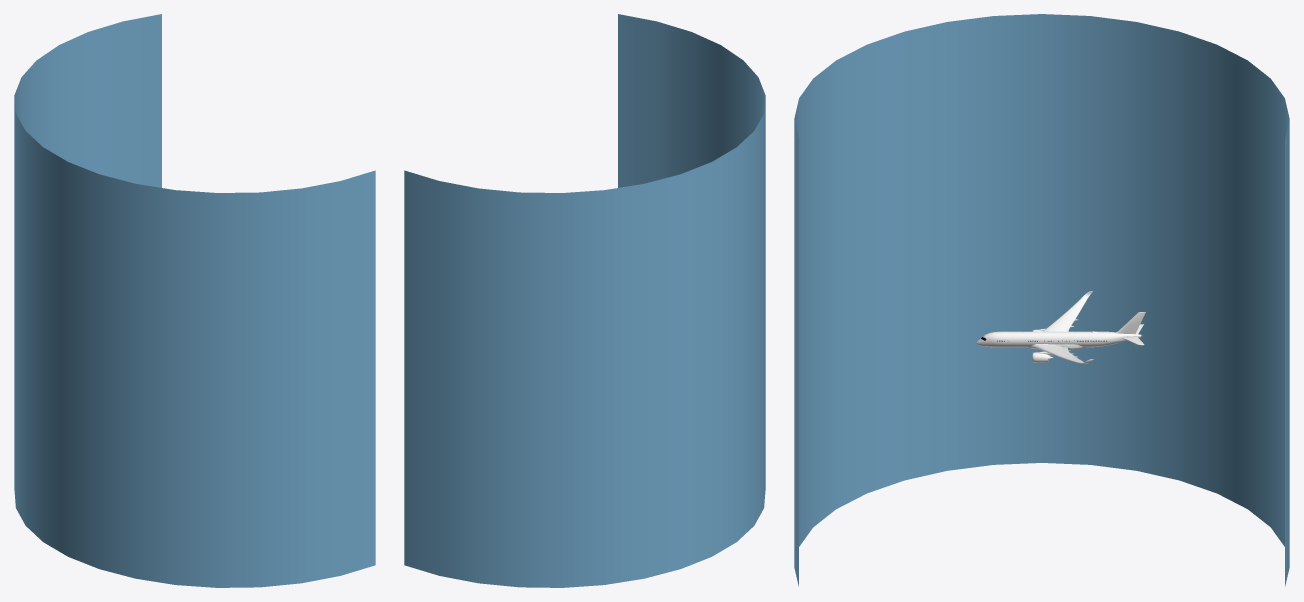
File: uploads_files_3276172_A350-900.fbx
3 renders of one model, left to right at view 1: azimuth 30°, elevation 25°; view 2: azimuth 150°, elevation 25°; view 3: azimuth 270°, elevation 25°, orthographic. The views are drawn at different scales.
Visible parts, largest first — view 1: Cylinder; view 2: Cylinder; view 3: Cylinder, fuselage, wings.
Boxes of the visible parts, x1=… form: Cylinder: x1=14, y1=14, x2=375, y2=587; Cylinder: x1=404, y1=14, x2=765, y2=587; Cylinder: x1=794, y1=14, x2=1289, y2=586; fuselage: x1=976, y1=331, x2=1142, y2=347; wings: x1=1032, y1=291, x2=1093, y2=363.
Bounding box in the file's own units: 3911 × 5898 × 5898.
